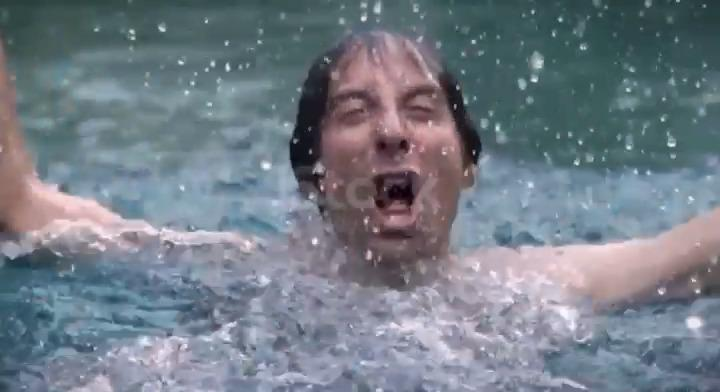Drowning: (3, 5, 718, 354)
